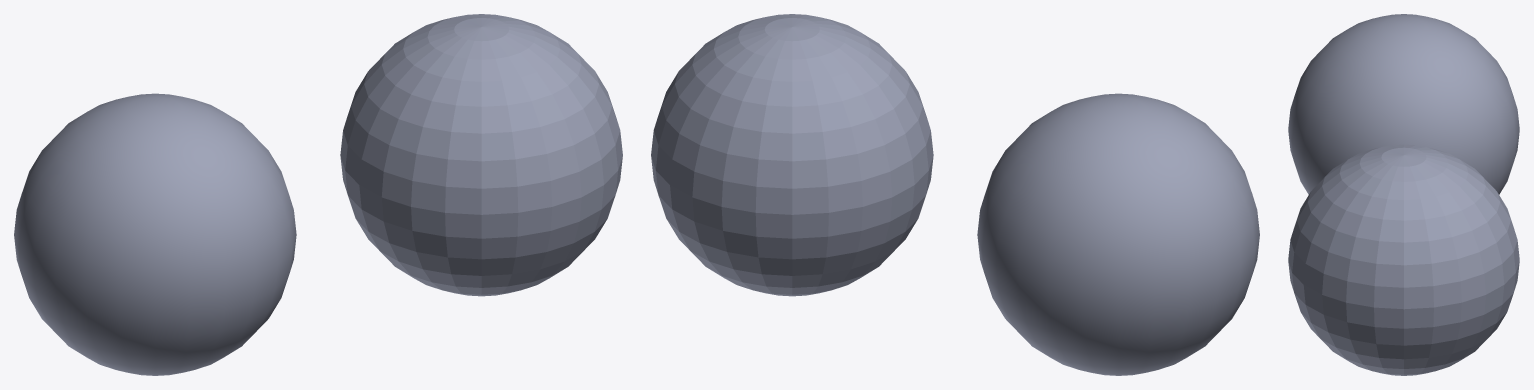
File: m03_normals.fbx
The picture shows the model from 3 angles, left to right: view 1: azimuth 30°, elevation 25°; view 2: azimuth 150°, elevation 25°; view 3: azimuth 270°, elevation 25°; orthographic projection. The views are drawn at different scales.
Parts seen in each view (by area): view 1: SmoothSphere, FlatSphere; view 2: SmoothSphere, FlatSphere; view 3: FlatSphere, SmoothSphere.
Part boxes in pixels (box(x1,y1,x2,y2)): SmoothSphere: box(14, 93, 296, 375); FlatSphere: box(340, 14, 622, 296); SmoothSphere: box(977, 93, 1259, 375); FlatSphere: box(651, 14, 933, 296); FlatSphere: box(1288, 144, 1519, 375); SmoothSphere: box(1288, 14, 1519, 194).
Bounding box in the file's own units: 2.8 × 1.2 × 1.2.
